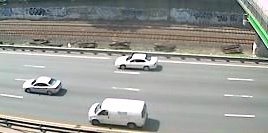car: (85, 96, 153, 129), (111, 51, 163, 75), (21, 75, 66, 98)
